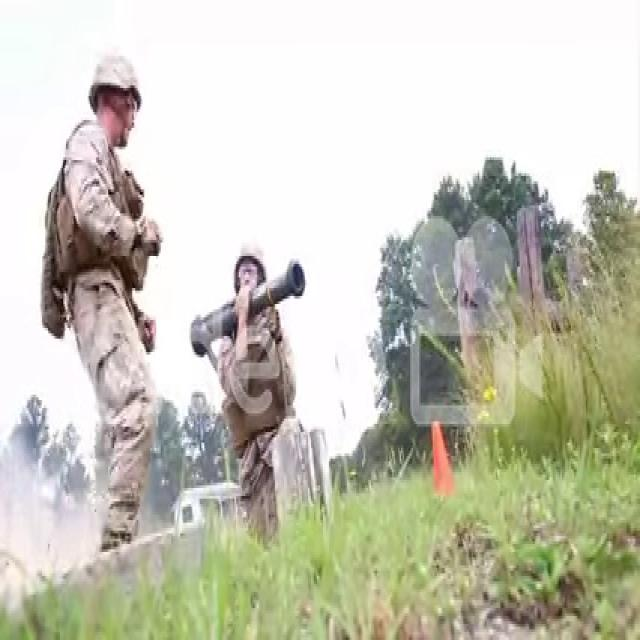bazooka: (189, 252, 310, 369)
